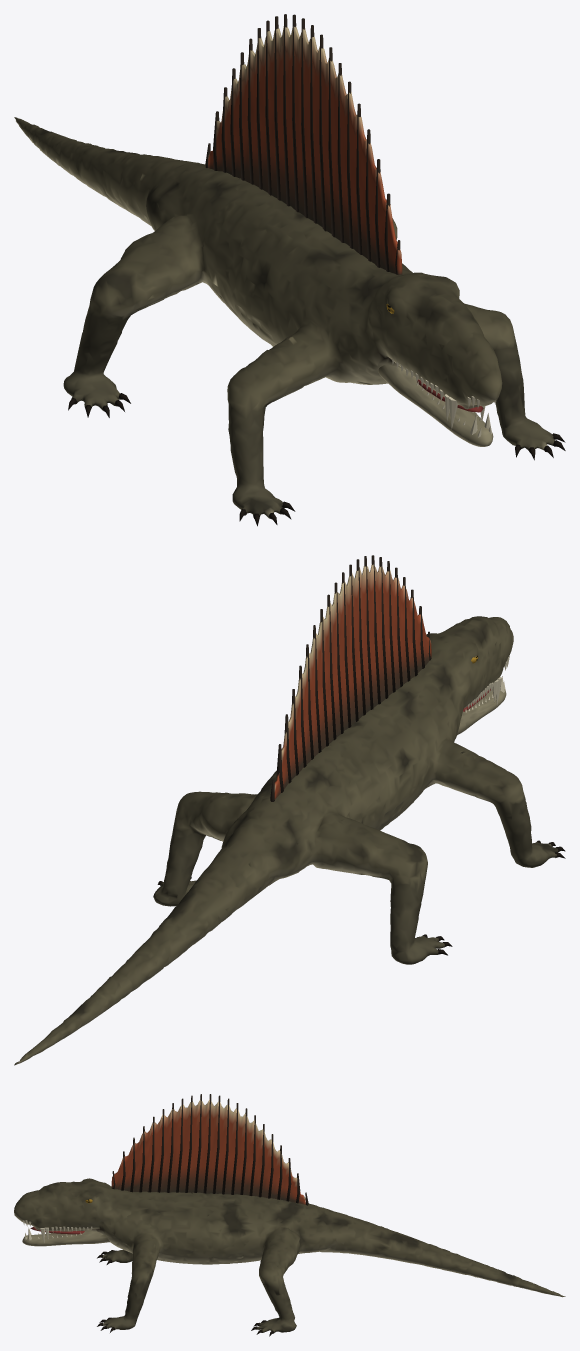
Rendered from DimetrodonBorealis.fbx.
3 views of the same model, one above another, from view 1: azimuth 30°, elevation 25°; view 2: azimuth 150°, elevation 25°; view 3: azimuth 270°, elevation 25° (orthographic). The views are drawn at different scales.
Parts seen in each view (by area): view 1: DimetrodonBorealis; view 2: DimetrodonBorealis; view 3: DimetrodonBorealis.
Boxes of the visible parts, x1,y1,x2,y2 form: DimetrodonBorealis: (14,14,565,526); DimetrodonBorealis: (14,555,565,1065); DimetrodonBorealis: (14,1094,565,1336).
Size of the model in its own units: 0.5464 by 0.5805 by 1.45.
